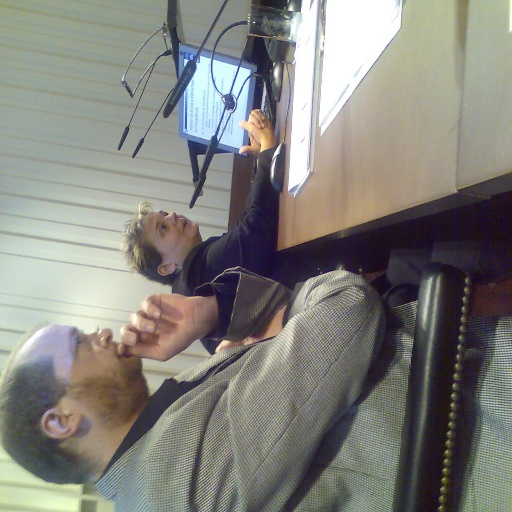hand: (105, 294, 218, 371), (214, 304, 284, 350), (238, 110, 278, 149), (238, 107, 266, 157)
